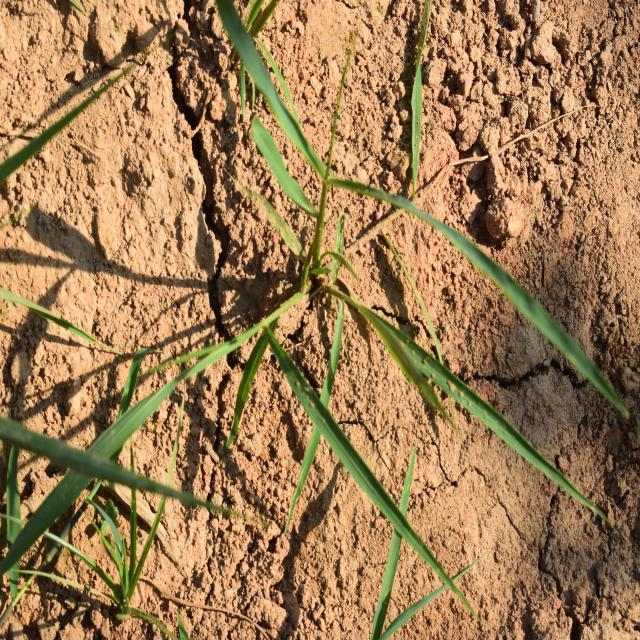green_foxtail: (80, 102, 503, 546)
